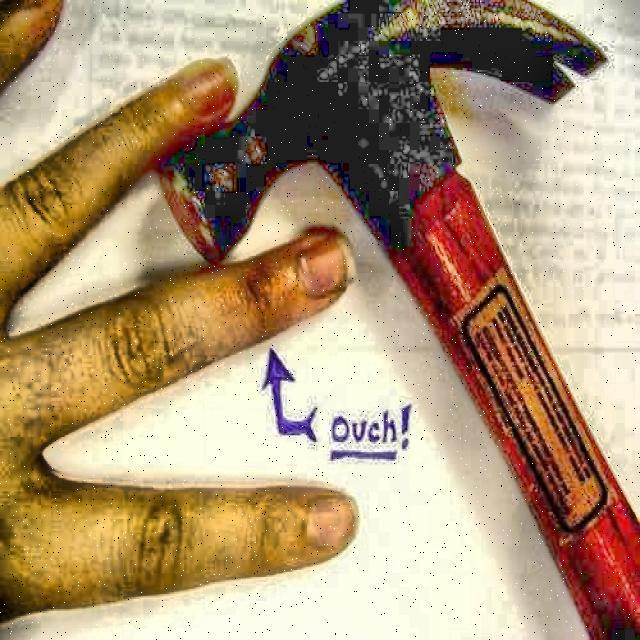hammer: (153, 0, 639, 640)
